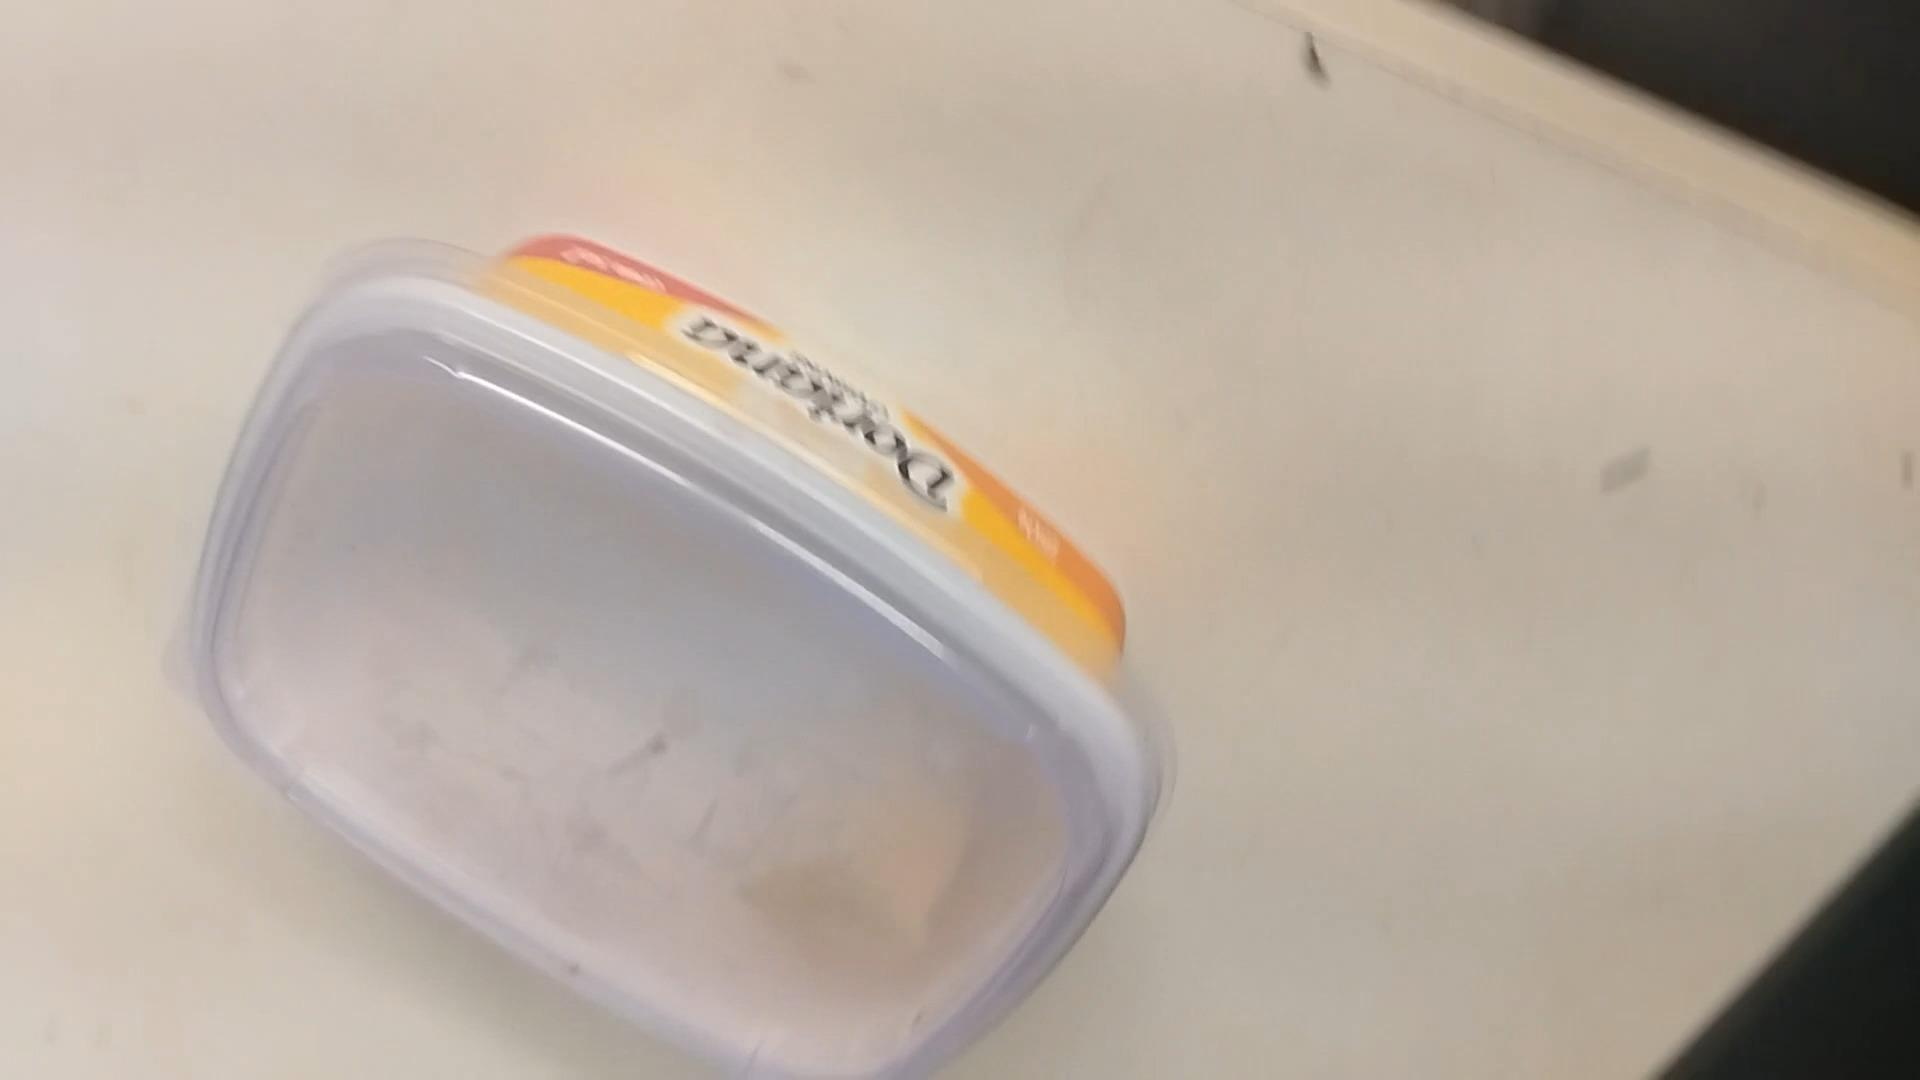butter: (153, 231, 1143, 1076)
